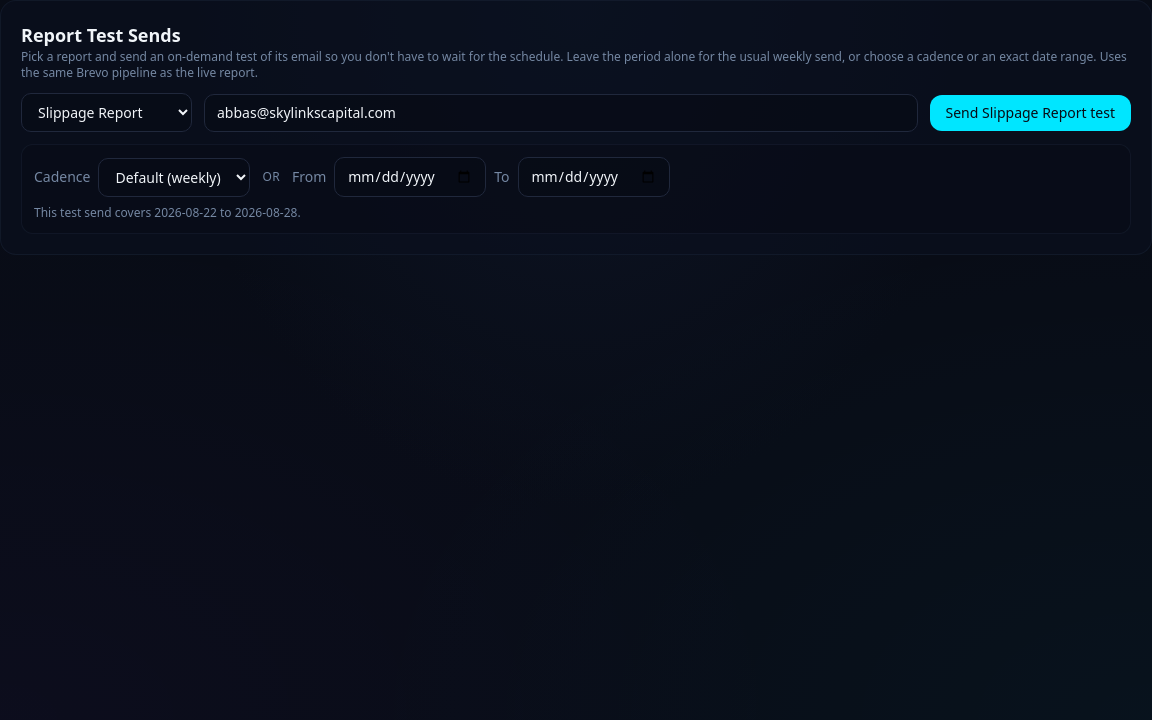
Test: ReportTestSendPanel resolved period and errors › names the month a monthly test covers
Select "Monthly" in the dropdown labelled "Cadence" at x=174, y=177, box top-left (98, 158), bottom-right (250, 196)
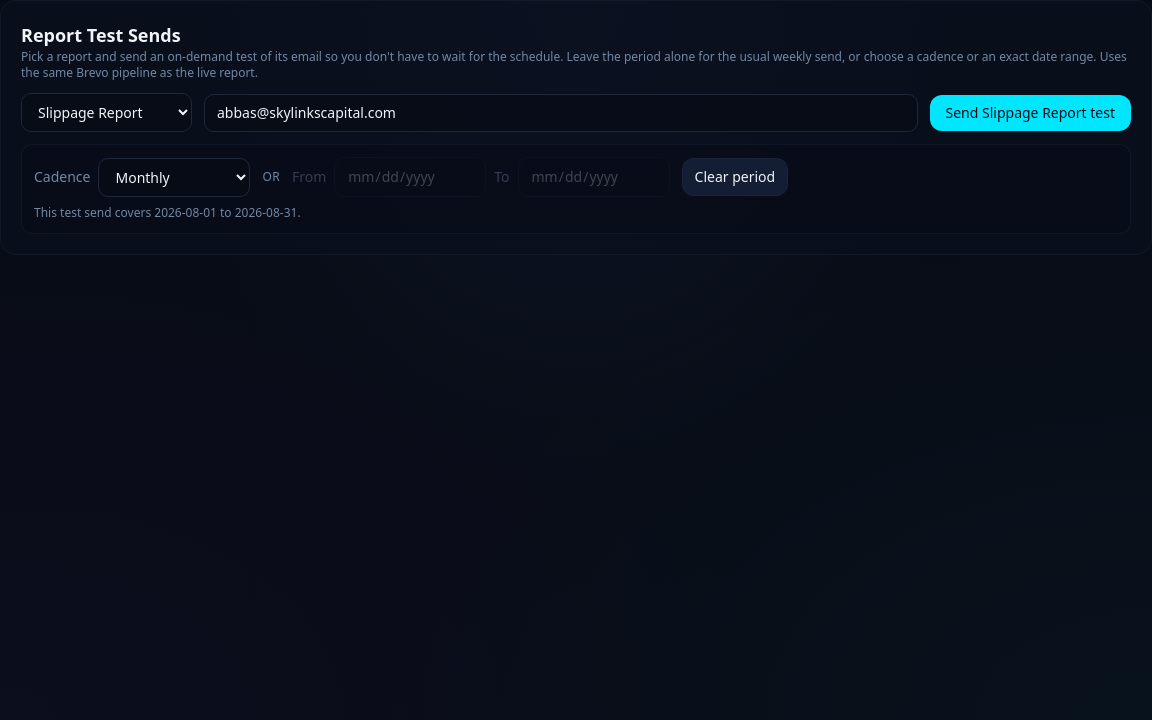
Now the text "This test send covers 2026-08-01 to 2026-08-31." is shown, box top-left (34, 204), bottom-right (301, 221)
